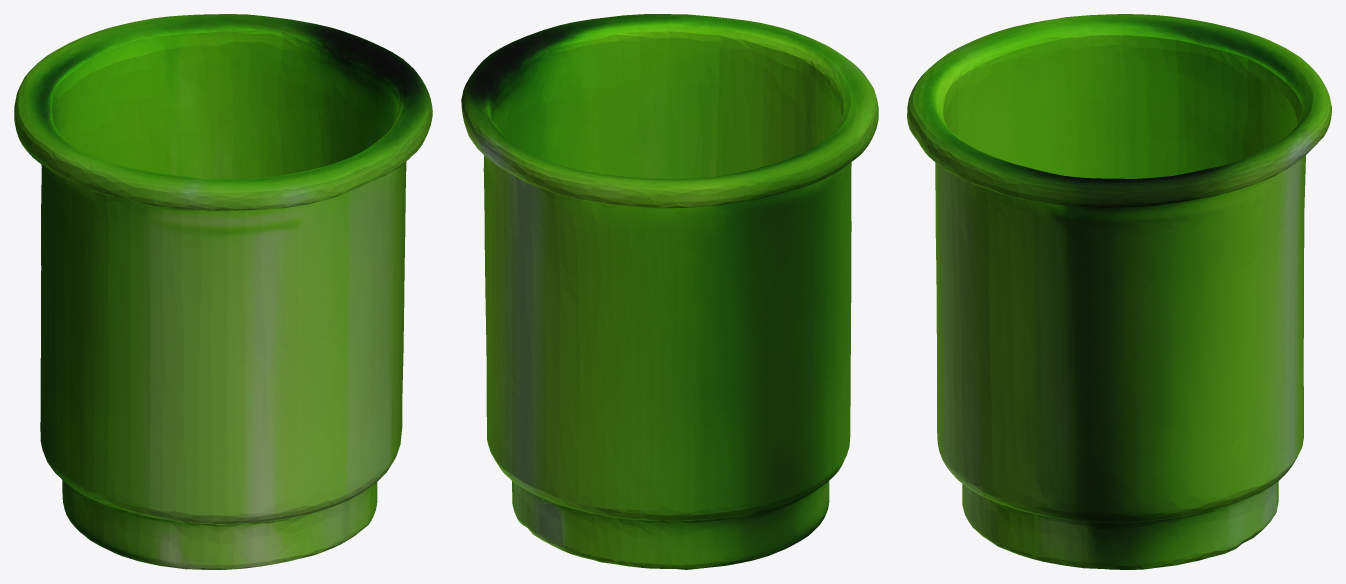
The model's file is trellis_recon.glb.
3 views of the same model, side by side, from view 1: azimuth 30°, elevation 25°; view 2: azimuth 150°, elevation 25°; view 3: azimuth 270°, elevation 25° (orthographic).
Visible parts, largest first — view 1: world; view 2: world; view 3: world.
Part boxes in pixels (box(x1,y1,x2,y2)): world: box(14, 14, 432, 569); world: box(461, 14, 878, 569); world: box(907, 14, 1331, 569).
Size of the model in its own units: 0.0628 by 0.0676 by 0.0633.
1 material, 1 textured.
